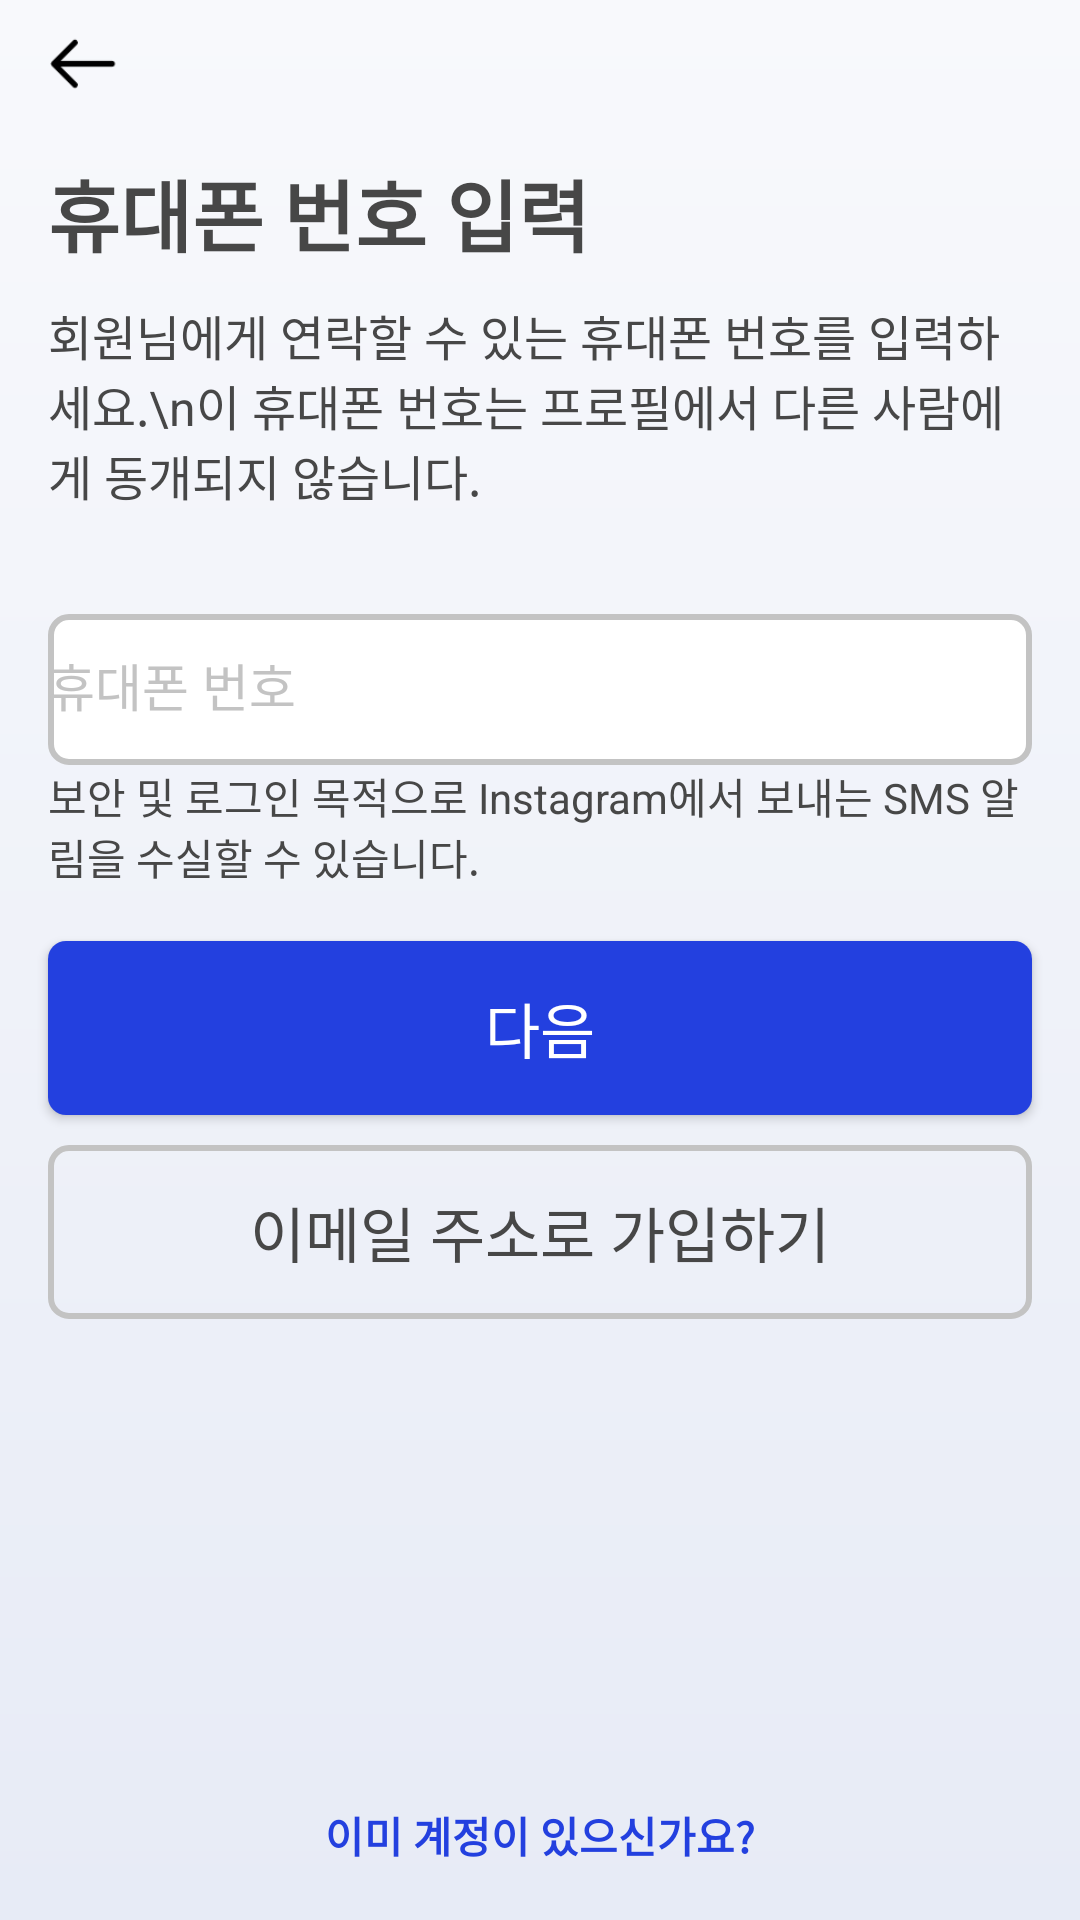

Where to tap for icons on this 1080px x 1920px app screen, as [x,y]:
back: [83,64]
